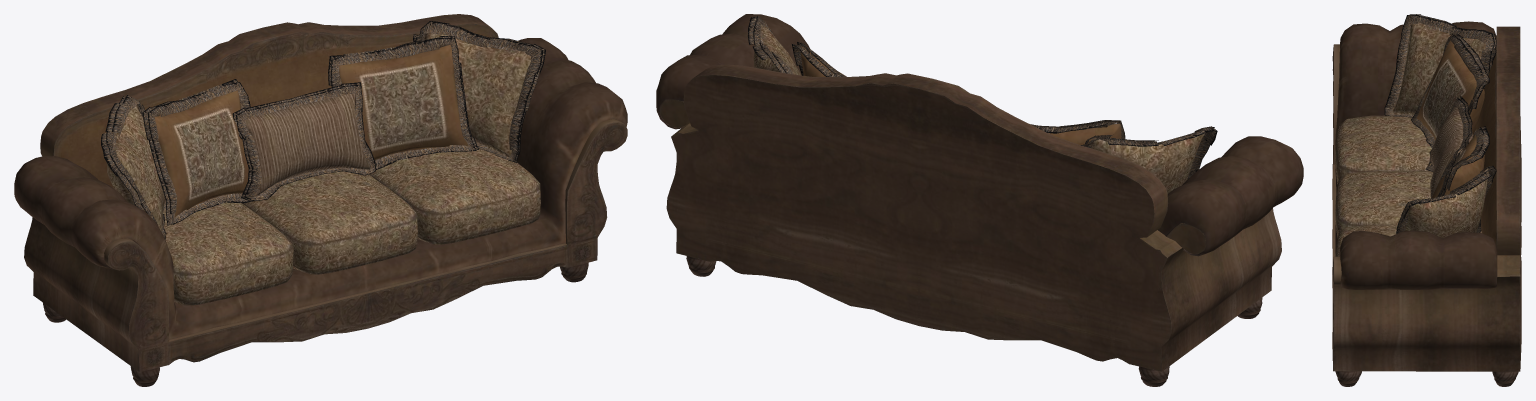
Rendered from sofa_03_1k.gltf.
The picture shows the model from 3 angles, left to right: view 1: azimuth 30°, elevation 25°; view 2: azimuth 150°, elevation 25°; view 3: azimuth 270°, elevation 25°; orthographic projection. The views are drawn at different scales.
Parts seen in each view (by area): view 1: sofa_03; view 2: sofa_03; view 3: sofa_03.
Boxes of the visible parts, x1,y1,x2,y2 form: sofa_03: (14,14,627,386); sofa_03: (656,14,1303,386); sofa_03: (1332,14,1521,386).
Bounding box in the file's own units: 2.73 × 1.12 × 0.925.
2 materials, 2 textured.
